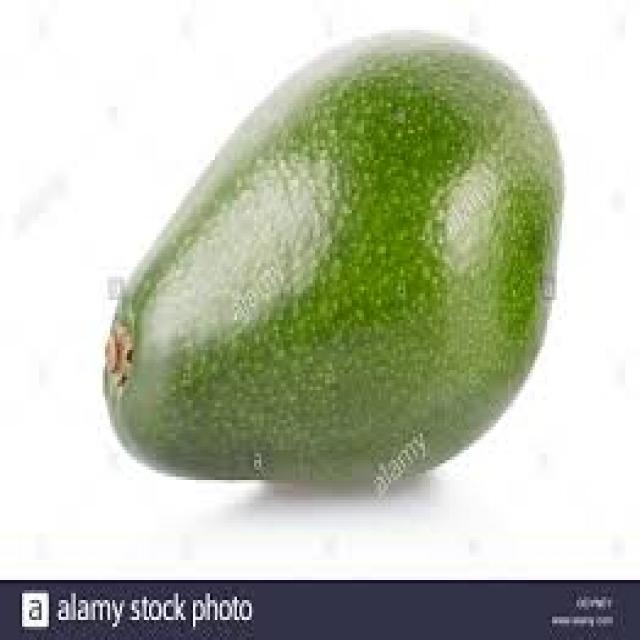organic waste: (100, 34, 564, 484)
